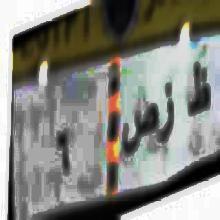6: (55, 127, 70, 172)
Thaa: (188, 55, 211, 124)
saad: (119, 104, 157, 158)
zay: (158, 82, 176, 150)
